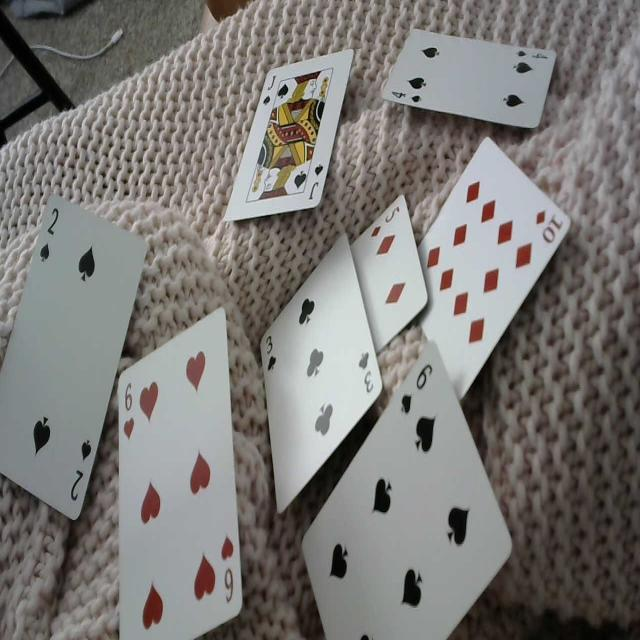10D: (533, 203, 564, 250)
2S: (37, 199, 63, 269), (70, 436, 94, 510)
4C: (355, 346, 375, 396), (264, 324, 278, 377)
4S: (386, 86, 424, 110), (514, 44, 550, 63)
5D: (369, 198, 402, 242)
6H: (219, 530, 237, 607), (121, 381, 137, 442)
6S: (398, 356, 434, 421)
JS: (307, 160, 323, 207), (261, 68, 277, 111)
